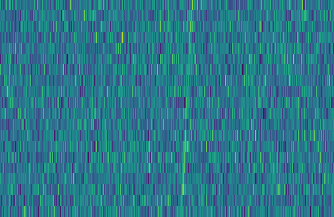signal: (176, 0, 197, 217)
